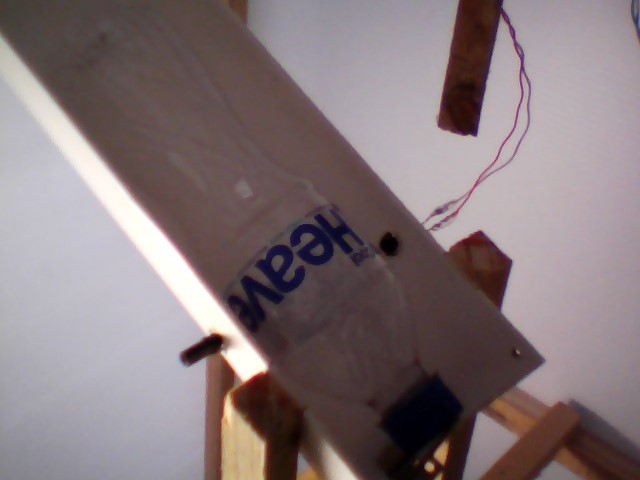plastico: (45, 9, 466, 460)
